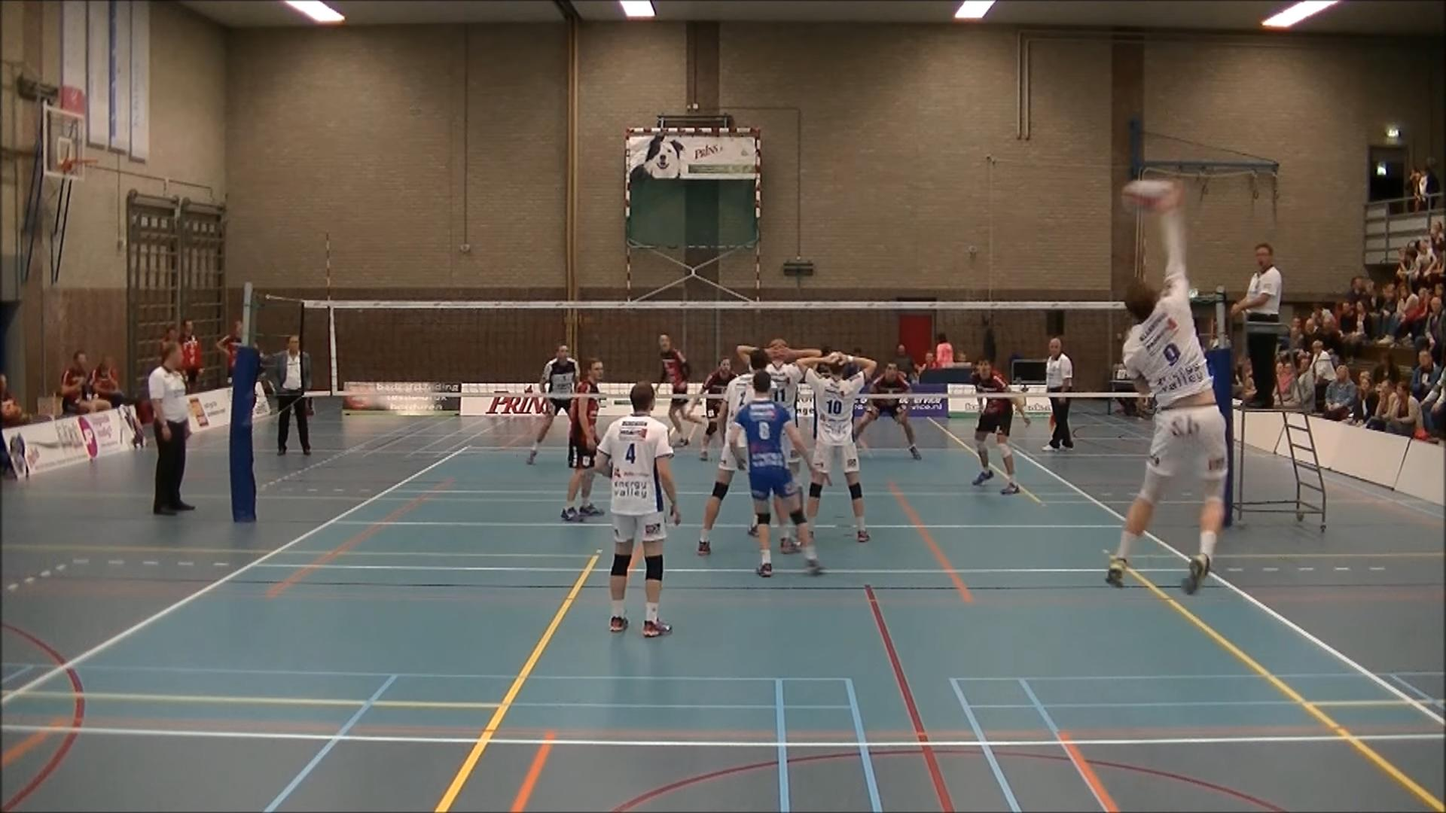battuta: (1093, 207, 1236, 603)
